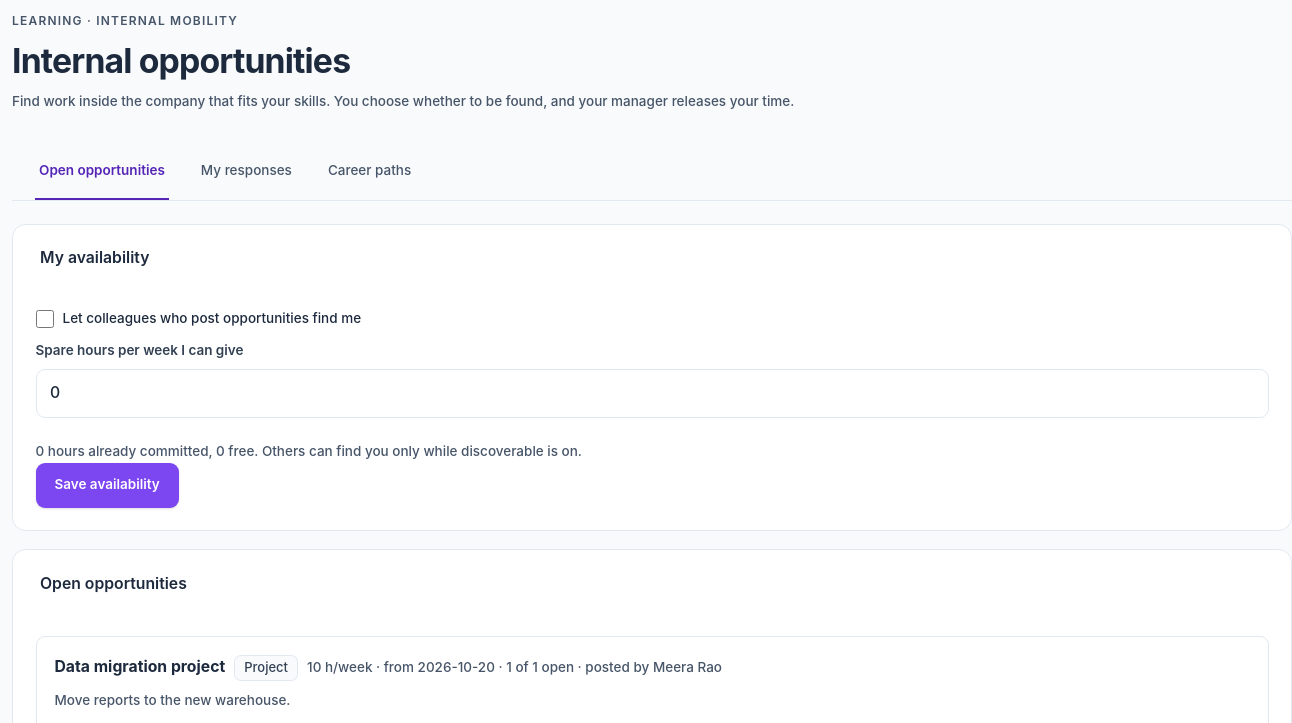
Test case: shows career paths with gaps, courses and opportunities, and the not-a-promise notice
The width and height of the screenshot is (1292, 723).
Click the tab "Career paths": {"x": 370, "y": 172} x1=323 y1=144 x2=416 y2=200
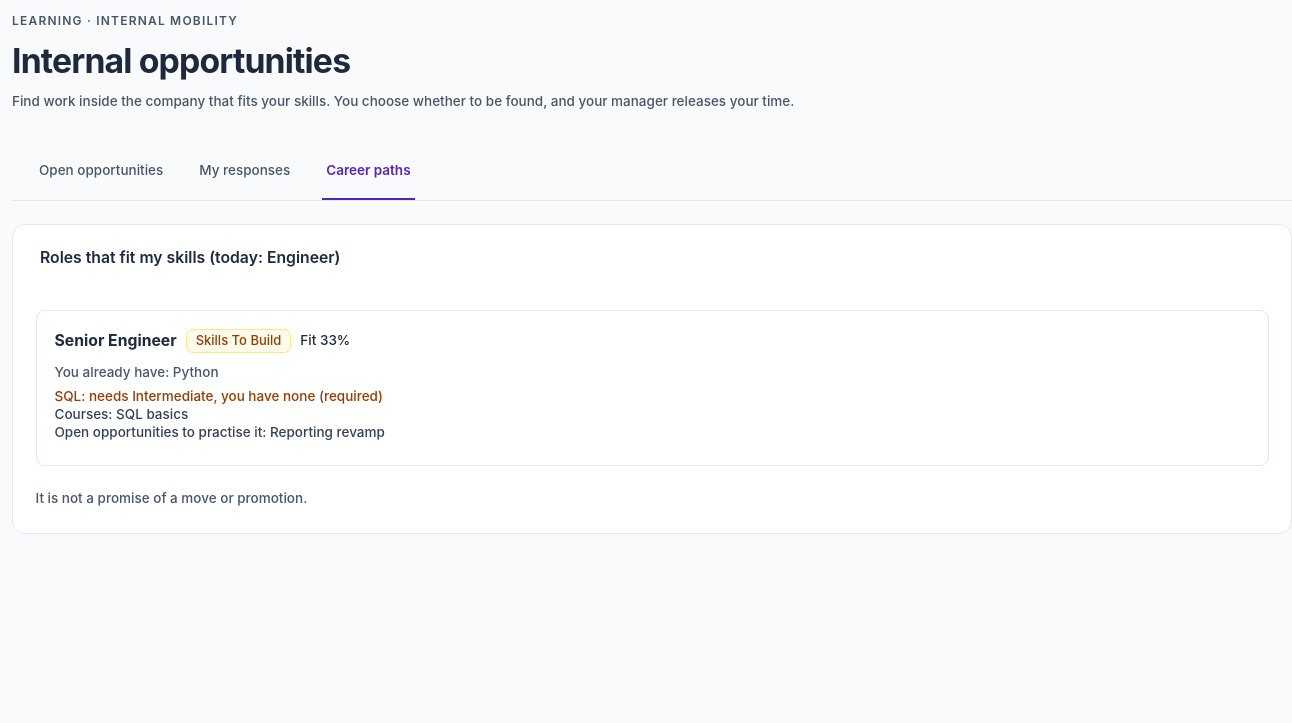
Expected: the text "Senior Engineer" is shown, x1=54 y1=330 x2=177 y2=352
Expected: the text "Fit 33%" is shown, x1=300 y1=332 x2=350 y2=350
Expected: the text "Courses: SQL basics" is shown, x1=54 y1=406 x2=188 y2=422
